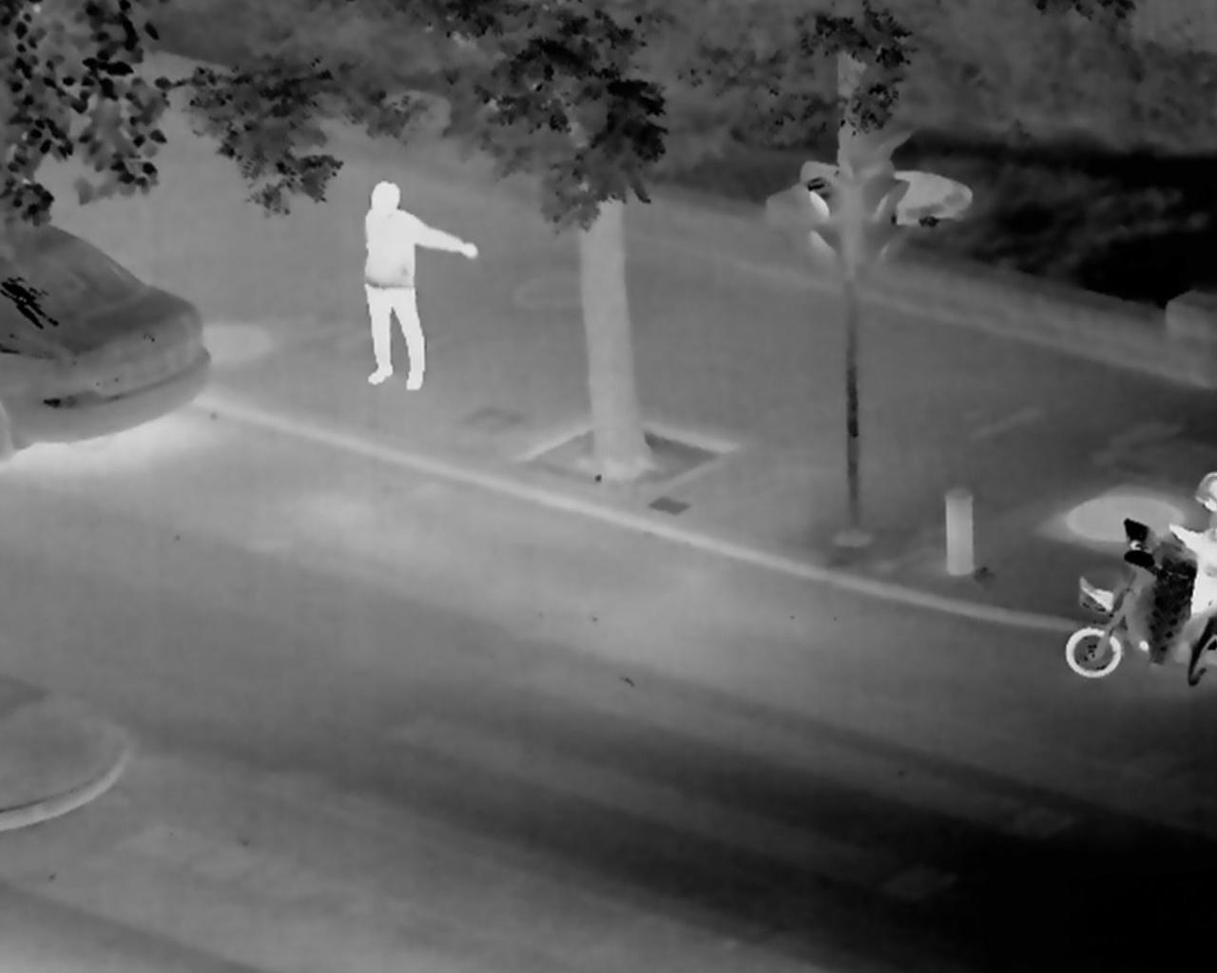person: (343, 173, 472, 397), (1186, 460, 1217, 613)
